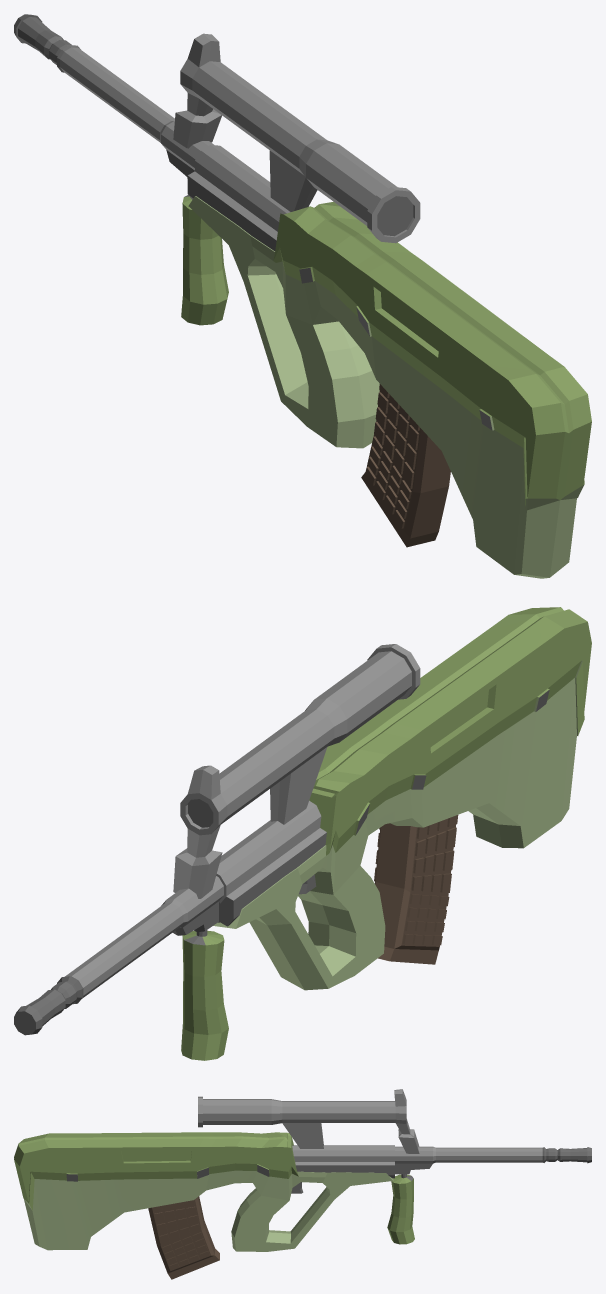
File: Aug.fbx
3 renders of one model, top to bottom at view 1: azimuth 30°, elevation 25°; view 2: azimuth 150°, elevation 25°; view 3: azimuth 270°, elevation 25°, orthographic. The views are drawn at different scales.
Parts seen in each view (by area): view 1: Aug; view 2: Aug; view 3: Aug.
Boxes of the visible parts, left/top/right/bottom form: Aug: left=14, top=14, right=591, bottom=578; Aug: left=14, top=607, right=591, bottom=1060; Aug: left=14, top=1089, right=591, bottom=1279.
Size of the model in its own units: 71.2 by 399 by 1122.
